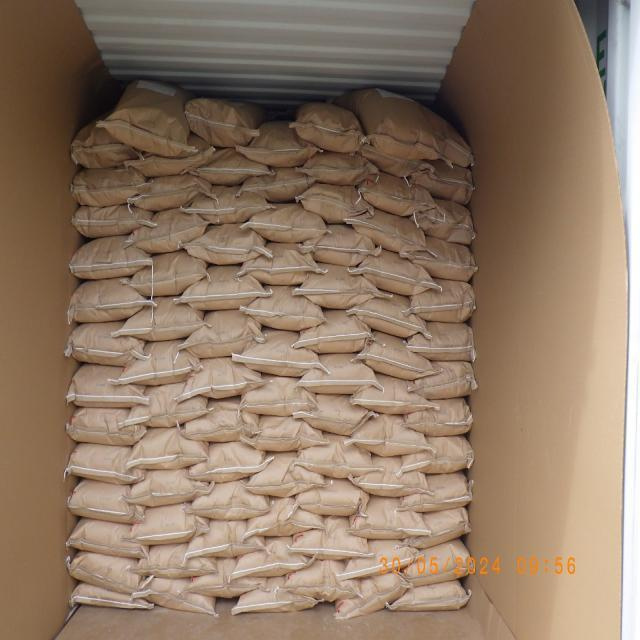gunny_bag: (332, 90, 474, 168), (328, 86, 433, 146), (104, 79, 192, 141), (406, 95, 472, 168), (234, 330, 324, 379), (116, 295, 207, 341), (178, 265, 268, 311), (180, 312, 263, 361), (116, 339, 202, 386), (69, 276, 153, 324), (354, 332, 434, 382), (242, 286, 328, 332), (238, 122, 320, 170), (64, 362, 147, 409), (184, 99, 260, 150), (123, 384, 209, 429), (68, 234, 152, 280), (296, 264, 380, 310), (294, 104, 368, 156), (128, 252, 208, 300), (356, 250, 436, 298), (183, 222, 270, 266), (332, 569, 410, 618), (127, 426, 210, 472), (178, 356, 264, 400), (238, 244, 324, 288), (68, 322, 150, 368), (244, 453, 326, 499), (186, 442, 271, 486), (70, 550, 154, 594), (129, 208, 211, 253), (232, 537, 317, 580), (64, 444, 145, 489), (124, 506, 210, 548), (134, 574, 220, 616), (348, 414, 430, 458), (337, 538, 419, 582), (345, 296, 425, 341), (69, 478, 147, 524), (356, 174, 434, 220), (182, 185, 271, 225), (351, 208, 428, 254), (244, 202, 328, 244), (295, 312, 375, 356), (298, 432, 378, 476), (400, 538, 470, 588), (292, 519, 373, 562), (69, 520, 151, 562), (348, 495, 428, 538), (182, 400, 262, 443), (348, 456, 428, 499), (294, 394, 374, 437), (301, 352, 382, 394), (101, 122, 190, 160), (186, 480, 268, 521), (350, 374, 434, 414), (64, 406, 148, 446), (241, 414, 326, 453), (404, 238, 476, 284), (244, 496, 326, 536), (303, 222, 381, 264), (132, 173, 216, 212), (126, 470, 212, 508), (234, 576, 320, 614), (358, 136, 432, 180), (397, 471, 472, 514), (184, 521, 266, 560), (402, 508, 471, 554), (238, 374, 316, 414), (298, 183, 370, 226), (68, 120, 138, 164), (190, 147, 270, 185), (286, 560, 362, 600), (132, 544, 216, 580), (70, 170, 148, 208), (398, 433, 472, 473), (406, 279, 473, 323), (296, 478, 372, 516), (404, 397, 474, 437), (407, 163, 472, 206), (411, 200, 474, 244), (405, 322, 473, 362), (388, 579, 470, 612), (70, 205, 152, 238), (241, 167, 315, 203), (301, 152, 379, 186), (72, 579, 156, 610), (124, 148, 214, 176), (408, 360, 474, 398), (186, 566, 264, 598), (69, 143, 138, 169)
